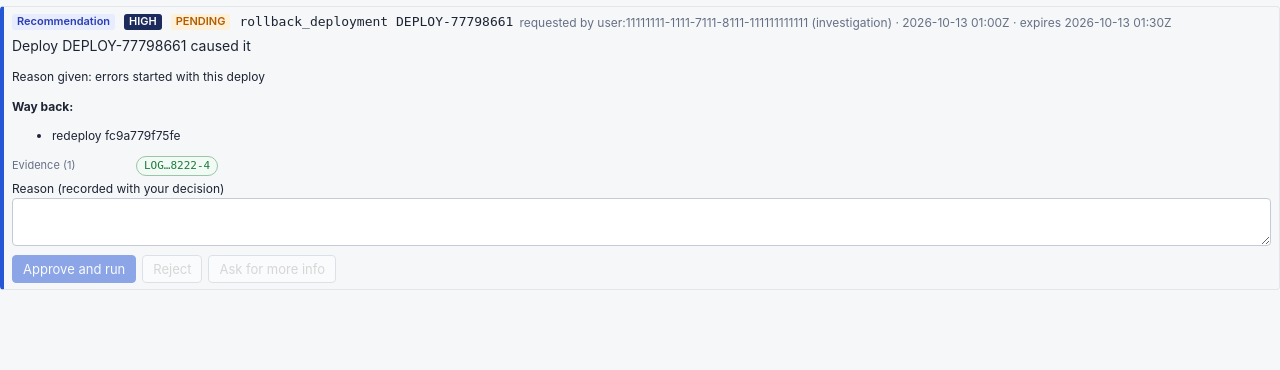
Test case: ApprovalCard › an api refusal is shown with its correlation id (not swallowed)
Type "rollback now" into the text box labelled "Reason (recorded with your decision)" at [642, 222], box [12,198,1271,246]
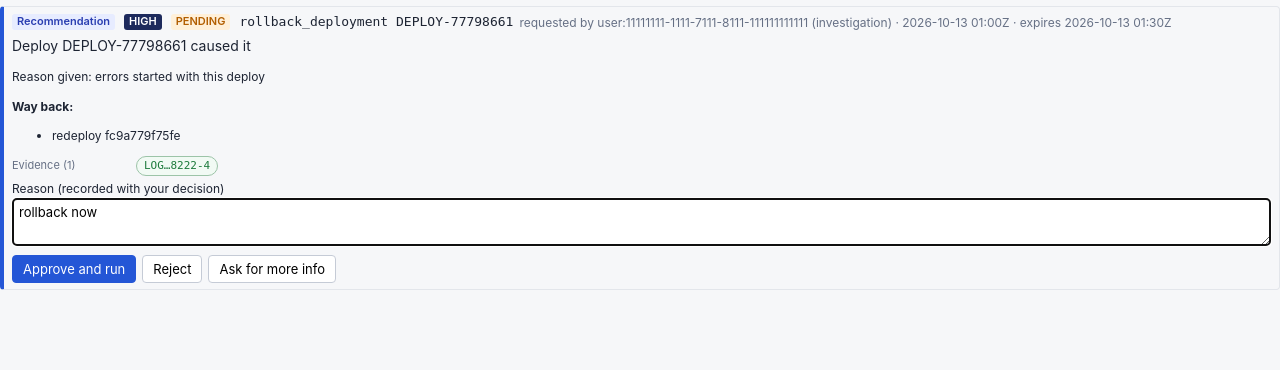
Click the button "Approve and run" at [74, 269], box [12,255,136,283]
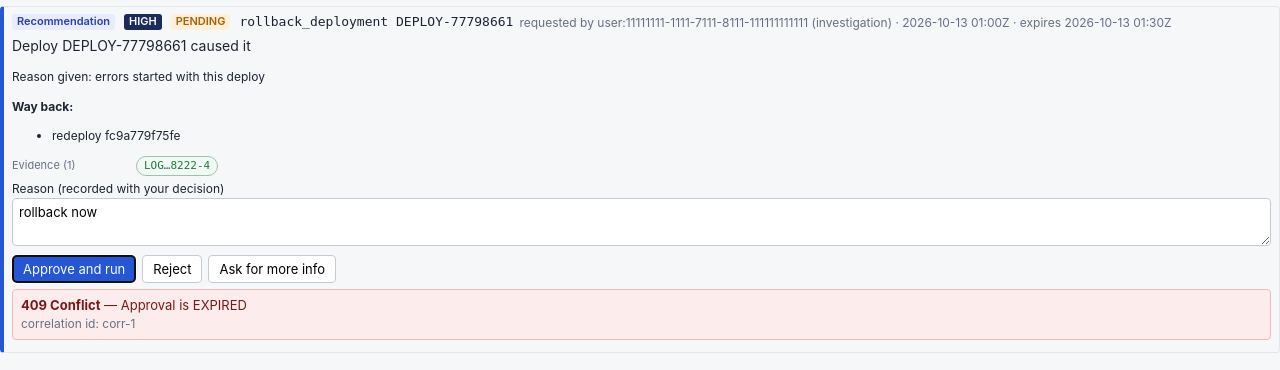
Check: the message shows "409 Conflict", box [12,290,1271,340]
Check: the message shows "Approval is EXPIRED", box [121,298,247,314]
Check: the message shows "corr-1", box [102,316,136,331]
